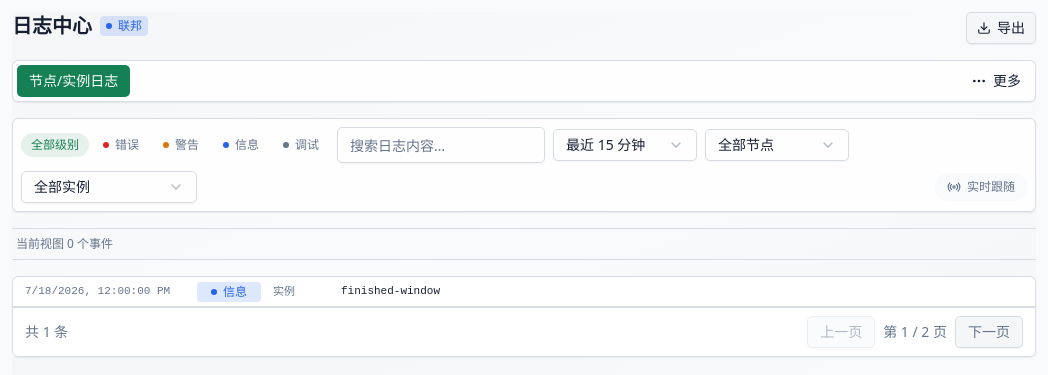
it: LogsPage × logs-federation（FR-482） › 窗口枚举结束才前移到原窗口下界，返回上一页复用缓存
Expected: the text "finished-window" is shown, 341,285 -> 440,297
What coordinates should you click on to do the following:
click the button "下一页"
I would click on:
 (989, 332)
Its box is 955,316 -> 1023,348.
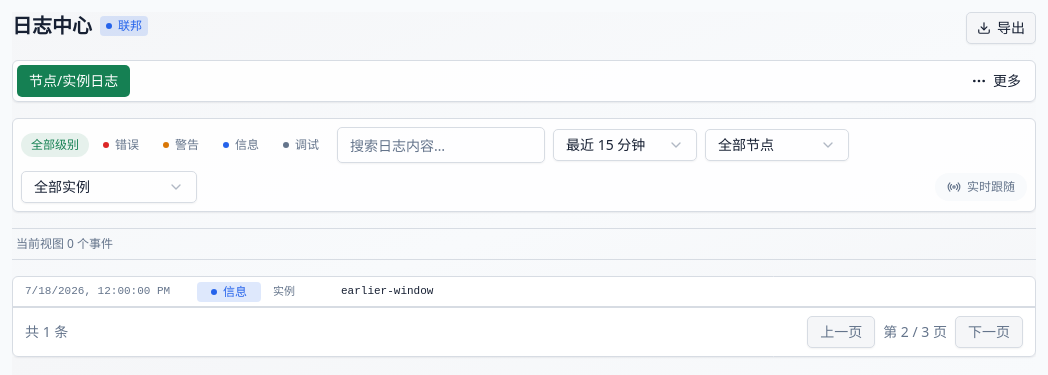
Expected: the text "earlier-window" is shown, 341,285 -> 433,297
What coordinates should you click on to do the following:
click the button "上一页"
I would click on:
 (841, 332)
Its box is 807,316 -> 875,348.
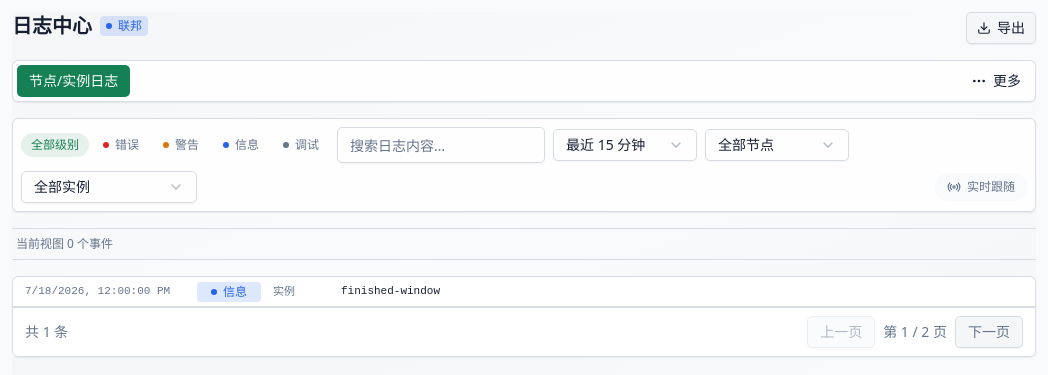
Expected: the text "finished-window" is shown, 341,285 -> 440,297
